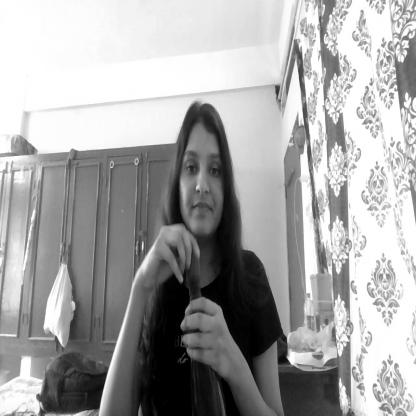Normal: (174, 104, 233, 250)
